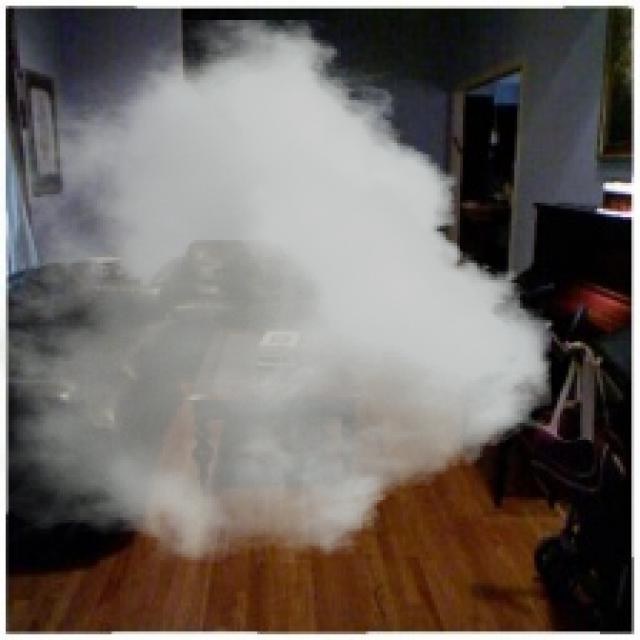smoke: (0, 20, 552, 564)
